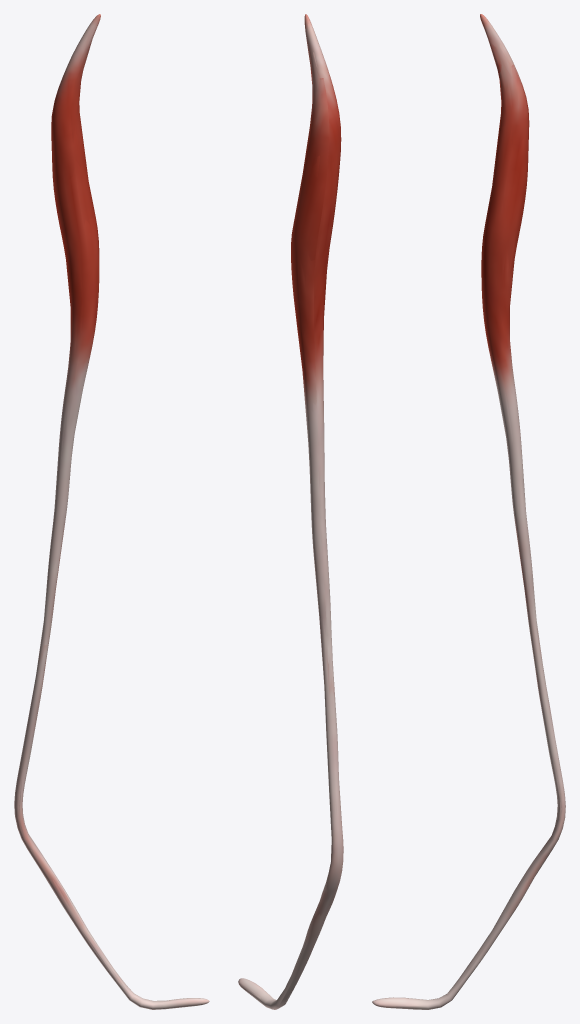
Rendered from L Deep Digital Flexor.fbx.
3 renders of one model, left to right at view 1: azimuth 90°, elevation 25°; view 2: azimuth 210°, elevation 25°; view 3: azimuth 270°, elevation 25°, orthographic. The views are drawn at different scales.
Parts seen in each view (by area): view 1: L Deep Digital Flexor, L Deep Digital Flexor low; view 2: L Deep Digital Flexor, L Deep Digital Flexor low; view 3: L Deep Digital Flexor, L Deep Digital Flexor low.
Part boxes in pixels (x1,y1,x2,y2): L Deep Digital Flexor: (14,14,209,1009); L Deep Digital Flexor low: (15,15,187,1008); L Deep Digital Flexor: (238,14,343,1009); L Deep Digital Flexor low: (238,16,342,1008); L Deep Digital Flexor: (372,14,565,1009); L Deep Digital Flexor low: (376,21,561,1009).
Size of the model in its own units: 3.45 by 88.76 by 15.73.
